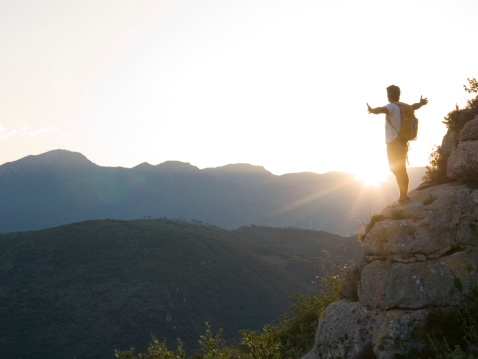em pe: (370, 82, 412, 186)
